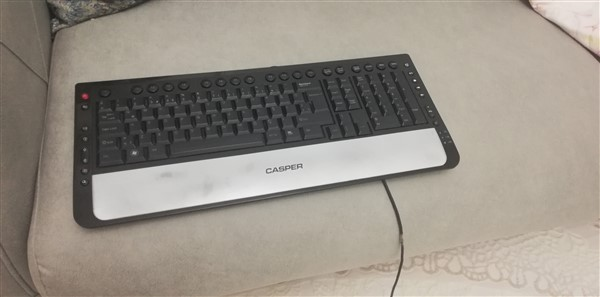klavye: (64, 51, 463, 231)
